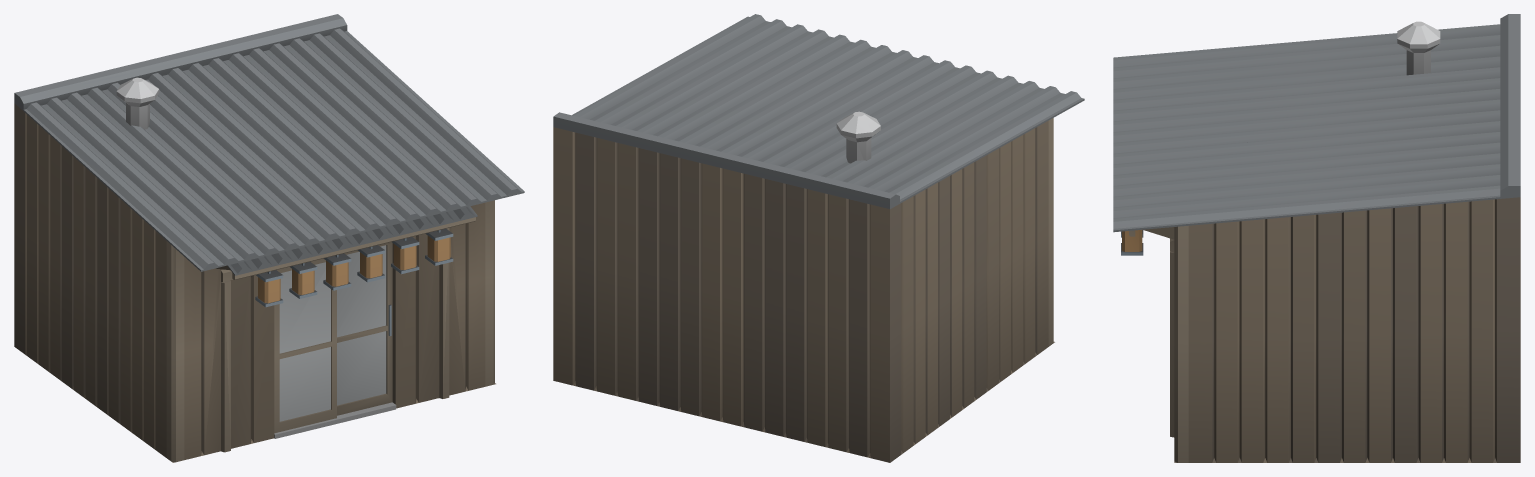
File: barhut.glb
3 views of the same model, side by side, from view 1: azimuth 30°, elevation 25°; view 2: azimuth 150°, elevation 25°; view 3: azimuth 270°, elevation 25° (orthographic). The views are drawn at different scales.
Parts seen in each view (by area): view 1: barhut; view 2: barhut; view 3: barhut.
Boxes of the visible parts, x1,y1,x2,y2 form: barhut: (14, 14, 524, 462); barhut: (553, 14, 1084, 462); barhut: (1113, 14, 1520, 462).
Size of the model in its own units: 4 by 3.34 by 4.
